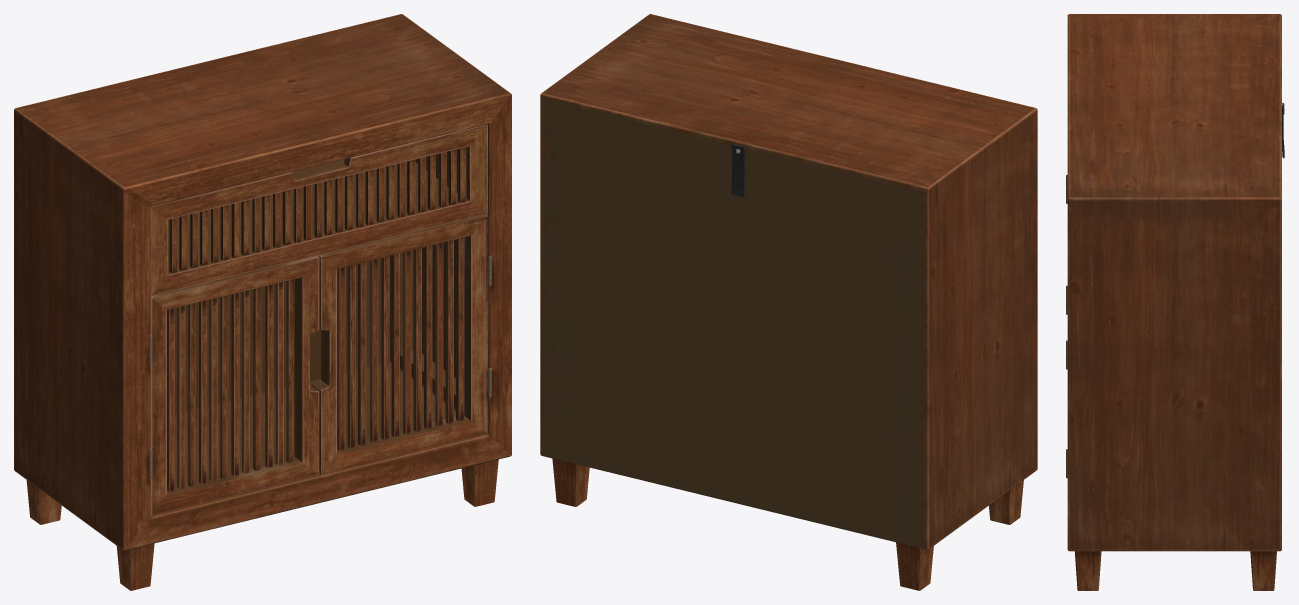
The model's file is cabinet-slatted.glb.
3 renders of one model, left to right at view 1: azimuth 30°, elevation 25°; view 2: azimuth 150°, elevation 25°; view 3: azimuth 270°, elevation 25°, orthographic. The views are drawn at different scales.
Visible parts, largest first — view 1: RootNode; view 2: RootNode; view 3: RootNode.
Boxes of the visible parts, left/top/right/bottom form: RootNode: left=14, top=14, right=511, bottom=590; RootNode: left=540, top=14, right=1037, bottom=590; RootNode: left=1066, top=14, right=1284, bottom=590.
Bounding box in the file's own units: 0.8 × 0.805 × 0.4.
1 material, 1 textured.
